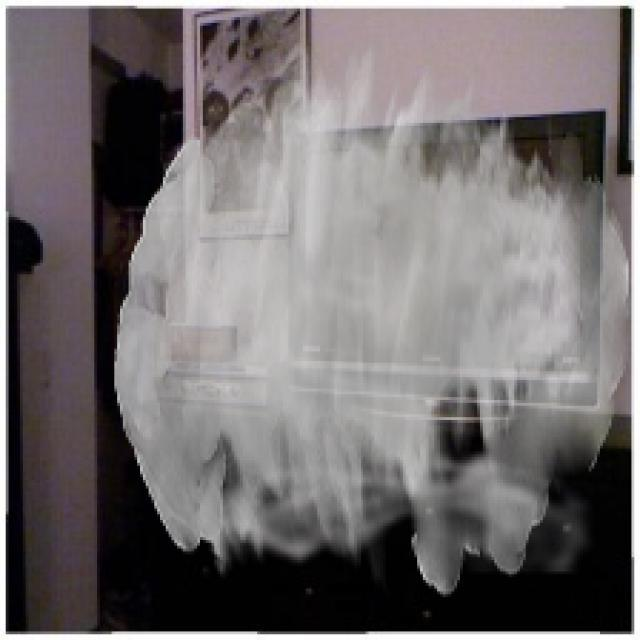Smoke: (114, 34, 632, 597)
